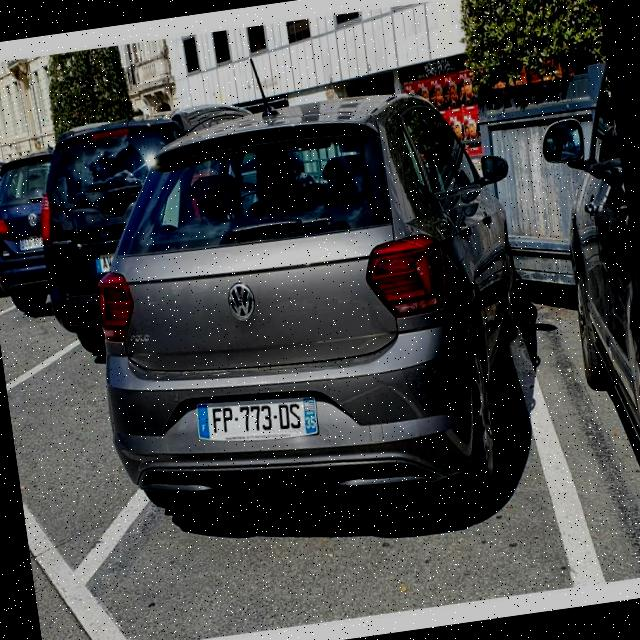EU: (192, 386, 324, 454)
France: (192, 396, 214, 444)
